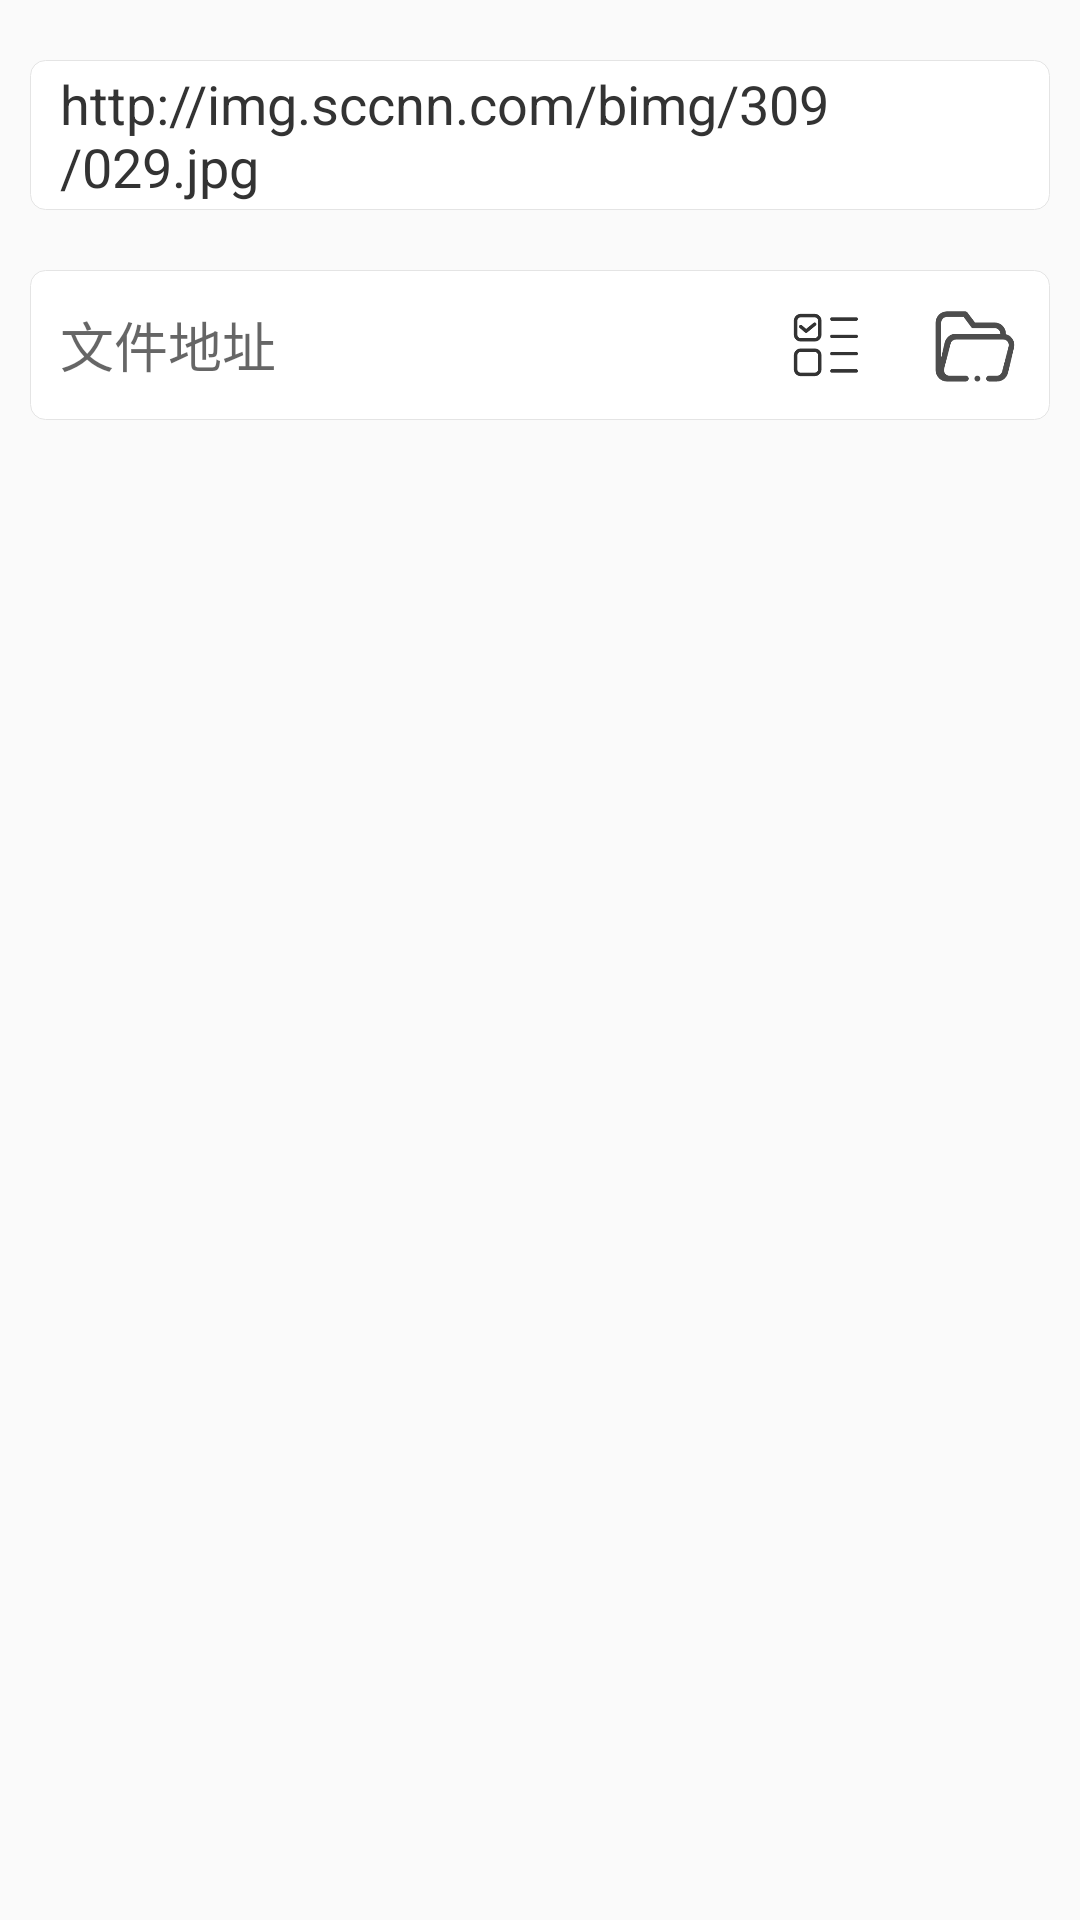

Icons on this 1080x1920 Android screen, each with its box as box=[x1, y1, x2, y2]:
choose: box=[793, 313, 858, 377]
file: box=[935, 311, 1014, 382]
